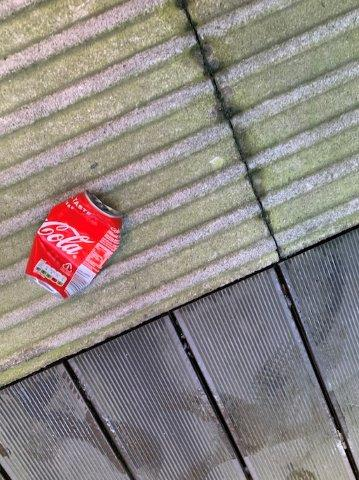kaleng: (26, 191, 121, 298)
